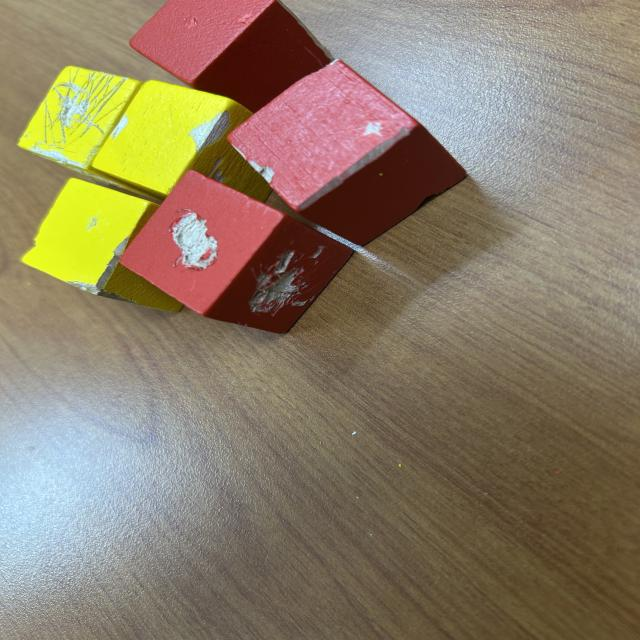broken: (224, 59, 467, 248), (115, 170, 354, 332), (93, 79, 281, 219), (21, 178, 198, 312), (130, 1, 334, 117), (17, 66, 183, 194)
